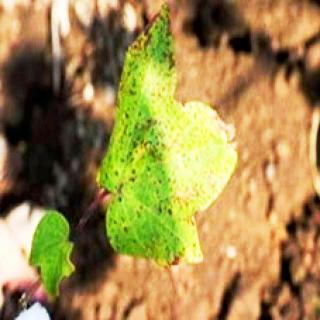leaf spot: (94, 7, 240, 277)
